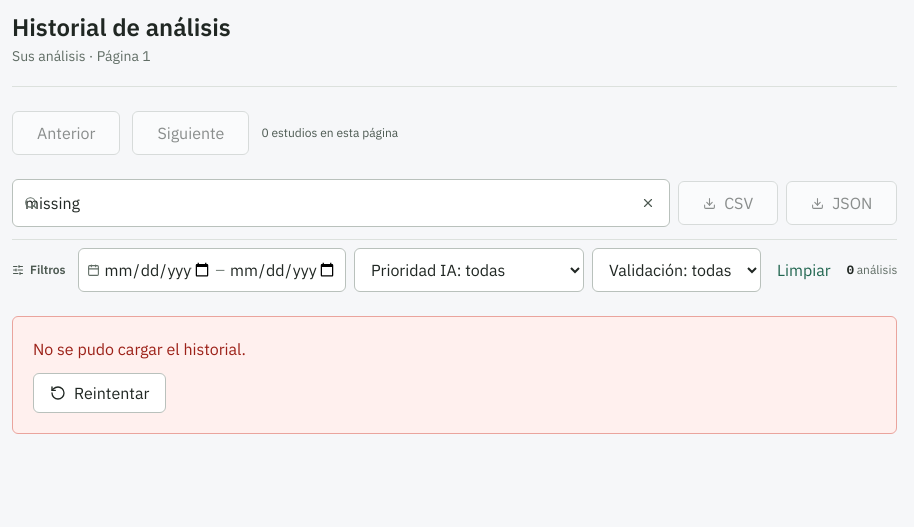
offers a retry when loading fails
Click the button "Reintentar" at (100, 393), box [33,373,166,413]
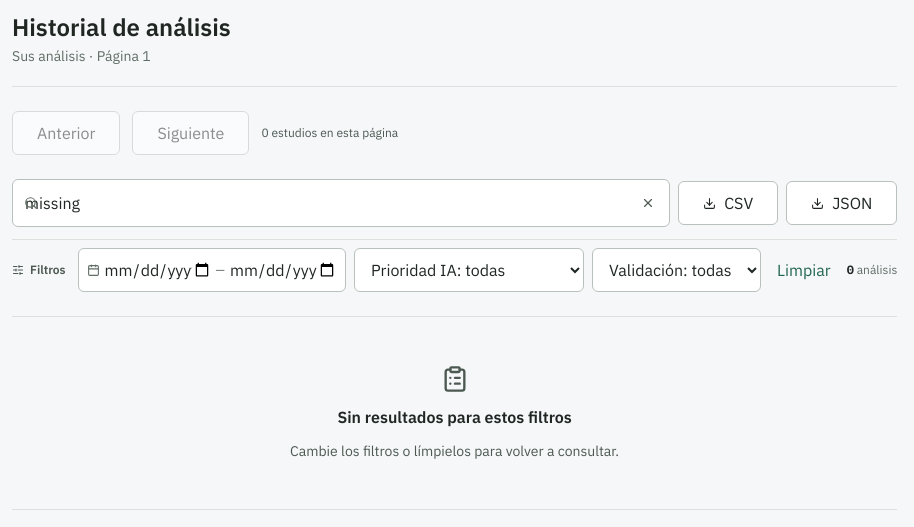
Expected: the heading "Sin resultados para estos filtros" is shown, [337,407,572,427]
